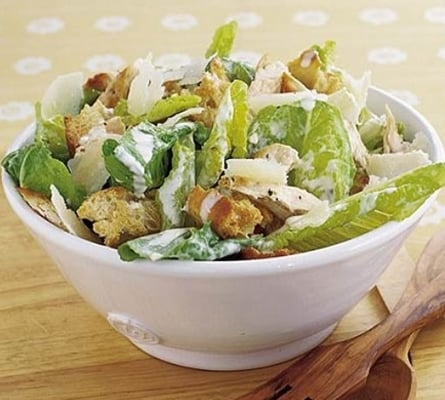sushi: (10, 9, 445, 372)
